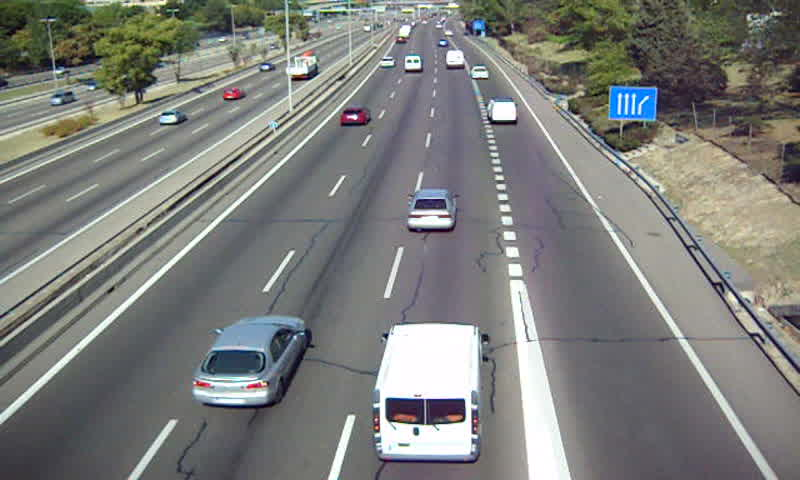car: (193, 316, 308, 408), (407, 189, 456, 231), (340, 107, 372, 125), (471, 65, 490, 80), (378, 55, 395, 67)
van: (374, 323, 483, 465), (488, 99, 518, 124), (403, 54, 422, 72), (446, 50, 465, 68)
